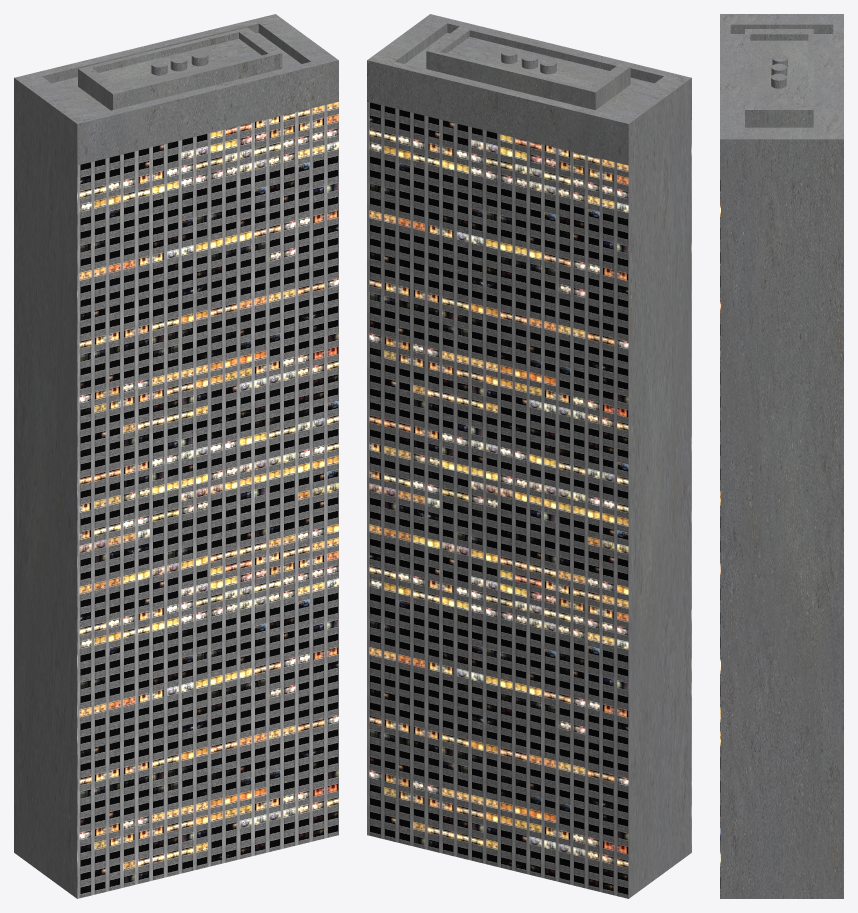
File: ny-office-building.glb
3 renders of one model, left to right at view 1: azimuth 30°, elevation 25°; view 2: azimuth 150°, elevation 25°; view 3: azimuth 270°, elevation 25°, orthographic.
Parts seen in each view (by area): view 1: ny-office-building; view 2: ny-office-building; view 3: ny-office-building.
Part boxes in pixels (x1,y1,x2,y2): ny-office-building: (14, 14, 338, 898); ny-office-building: (367, 14, 691, 898); ny-office-building: (720, 14, 843, 898).
Bounding box in the file's own units: 80.35 × 230 × 33.62.
1 material, 1 textured.
